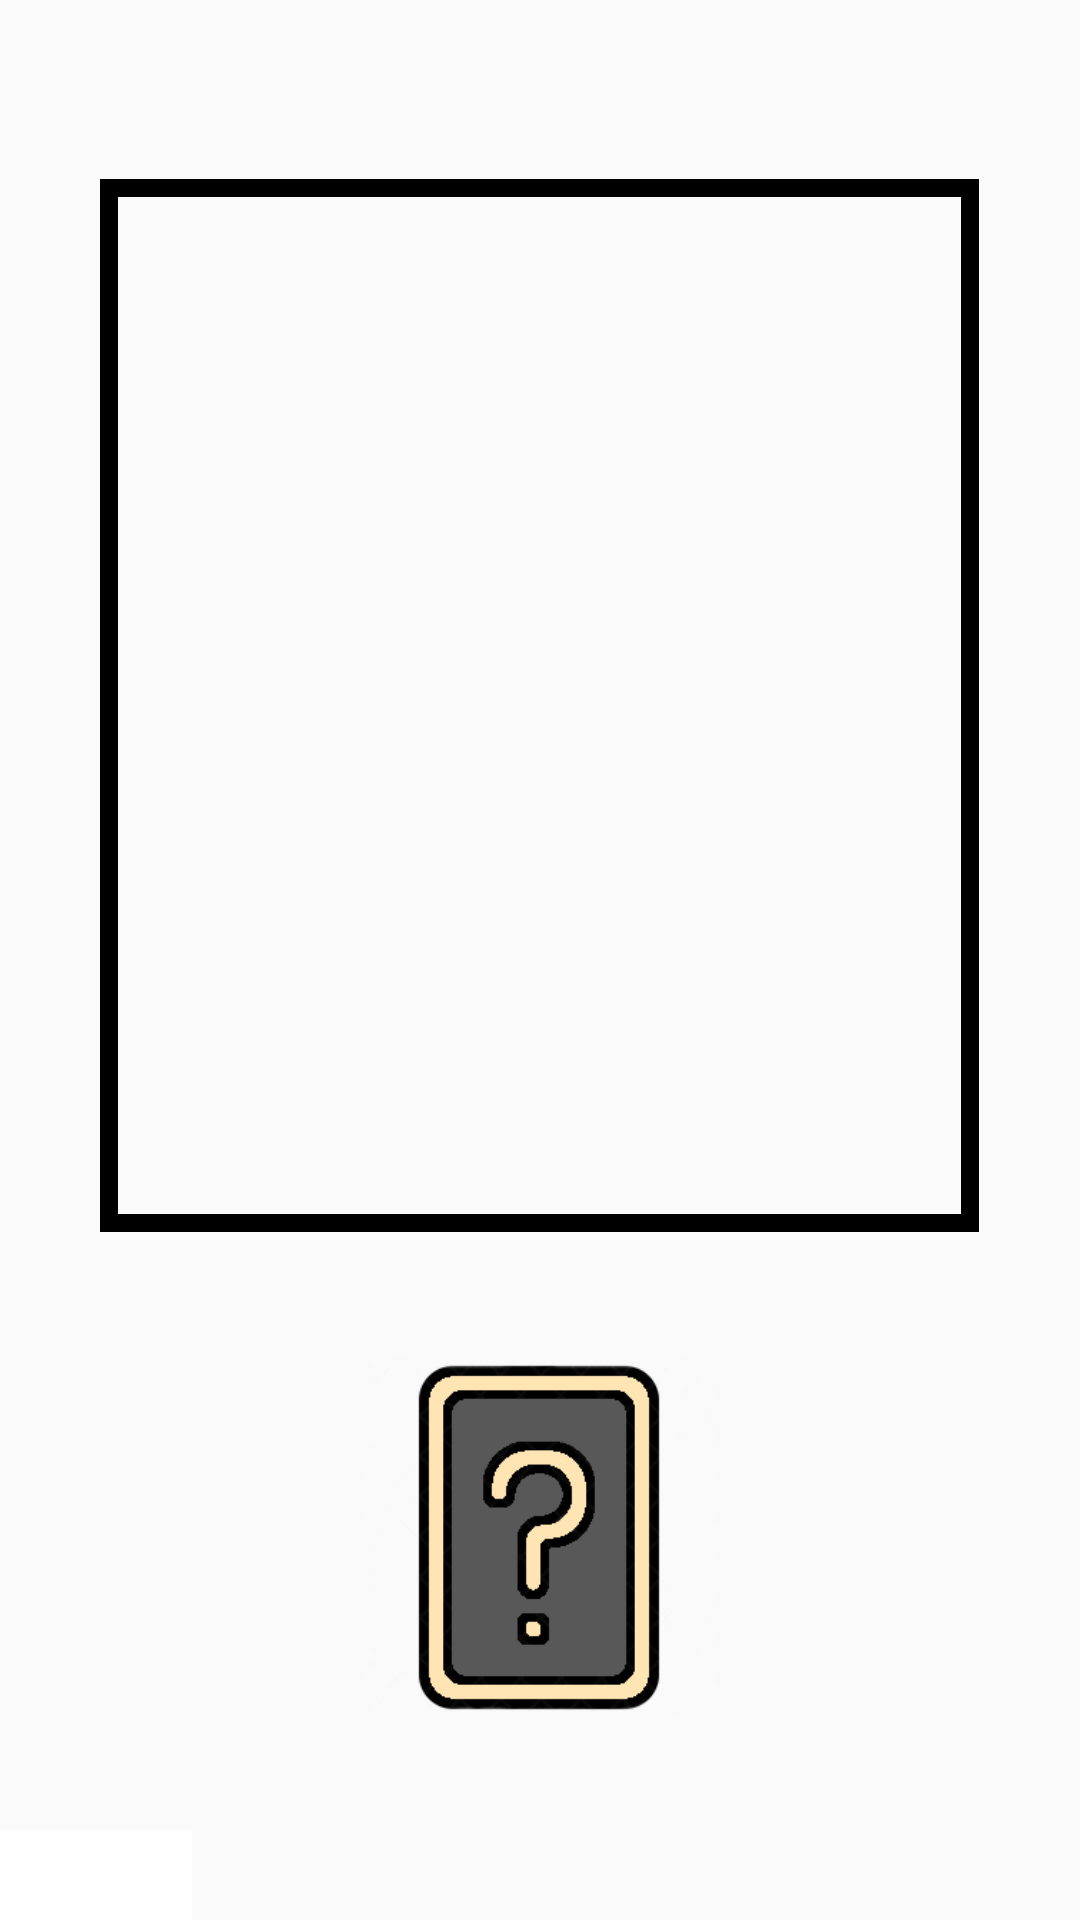

Named icons in this screenshot (1080px×1920px) and their bounding boxes, (x1, y1, x2, y2):
card: (418, 1365, 660, 1710)
